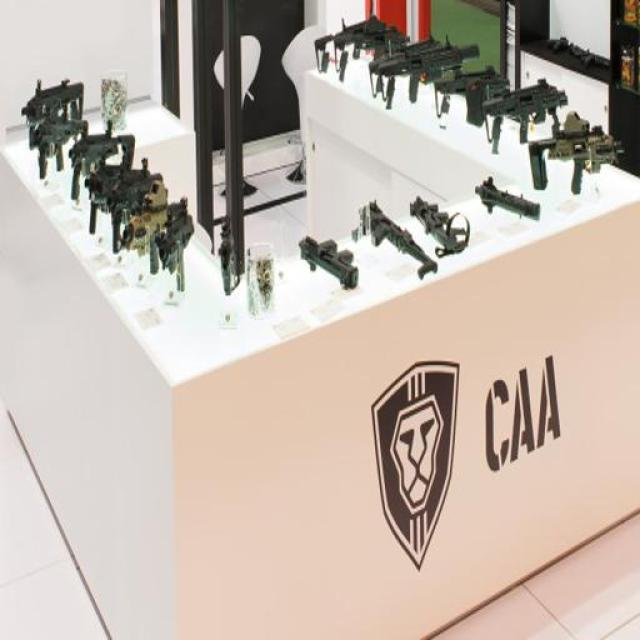pistol: (474, 175, 540, 225)
